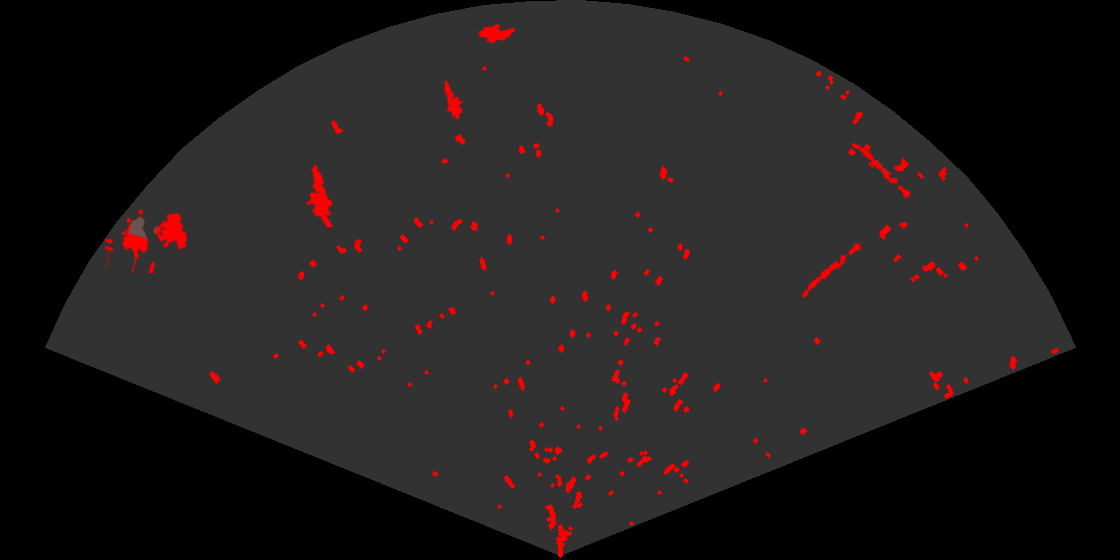AUV: (476, 22, 517, 45)
cage: (105, 207, 189, 273)
chain: (800, 236, 867, 300), (850, 141, 918, 203)
frogman: (305, 163, 335, 227), (442, 80, 465, 119)
